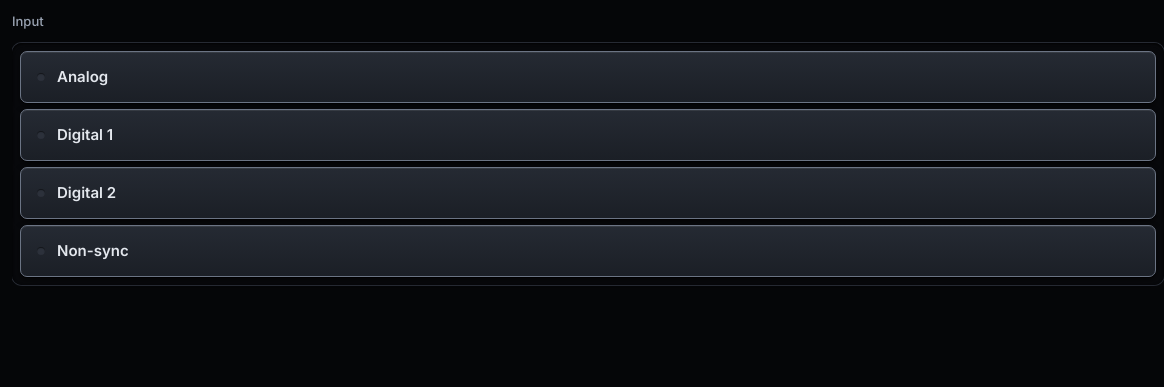
InputSelector › shows a rejected switch as the input the processor kept
Step 1. Click the button "Non-sync" → (93, 250), box [20,225,1156,277]
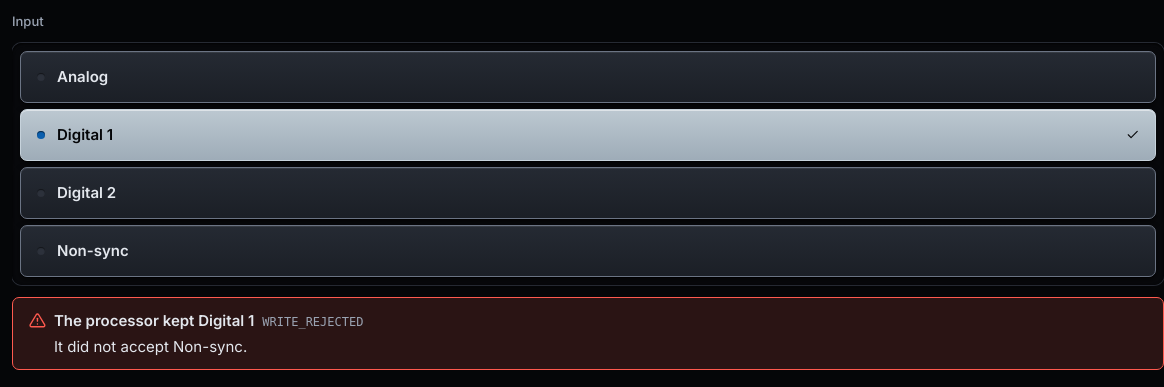
Expected: the message shows "The processor kept Digital 1", [54,311,254,330]
